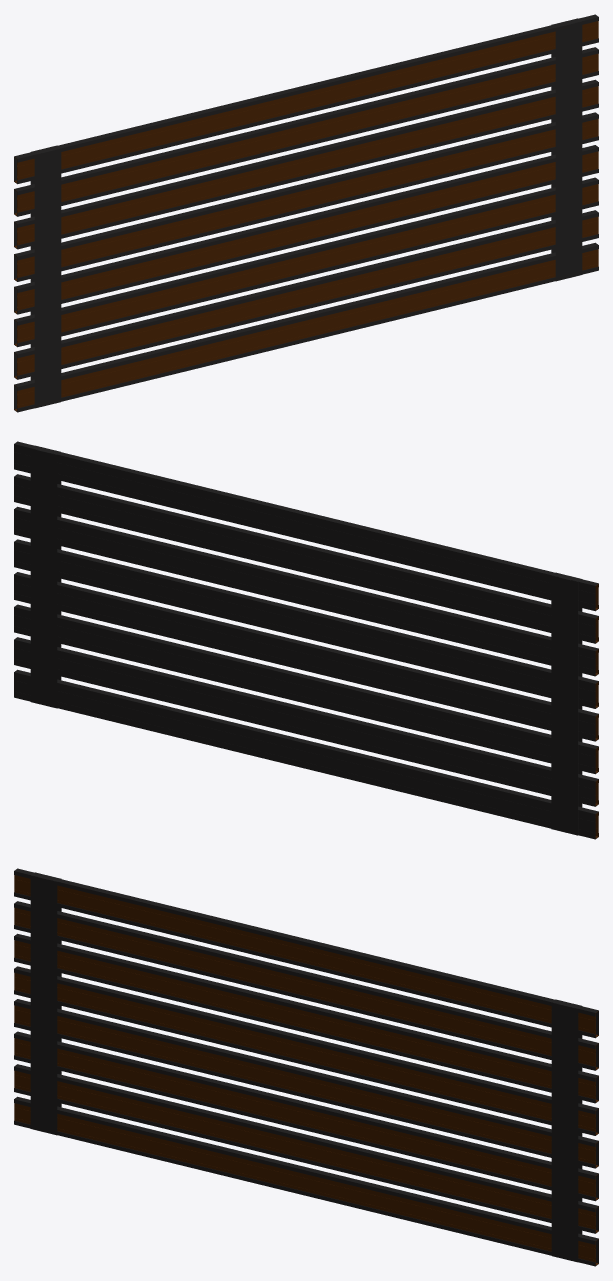
File: PolisadineD.glb
The picture shows the model from 3 angles, top to bottom: view 1: azimuth 30°, elevation 25°; view 2: azimuth 150°, elevation 25°; view 3: azimuth 330°, elevation 25°; orthographic projection.
Visible parts, largest first — view 1: Medis, Metalas; view 2: Metalas, Medis; view 3: Medis, Metalas.
Boxes of the visible parts, <box> form: Medis: <box>14,21,598,411</box>; Metalas: <box>14,14,598,412</box>; Metalas: <box>14,441,598,839</box>; Medis: <box>595,584,598,838</box>; Medis: <box>14,875,598,1265</box>; Metalas: <box>14,868,598,1266</box>.
Bounding box in the file's own units: 240 × 100 × 3.
